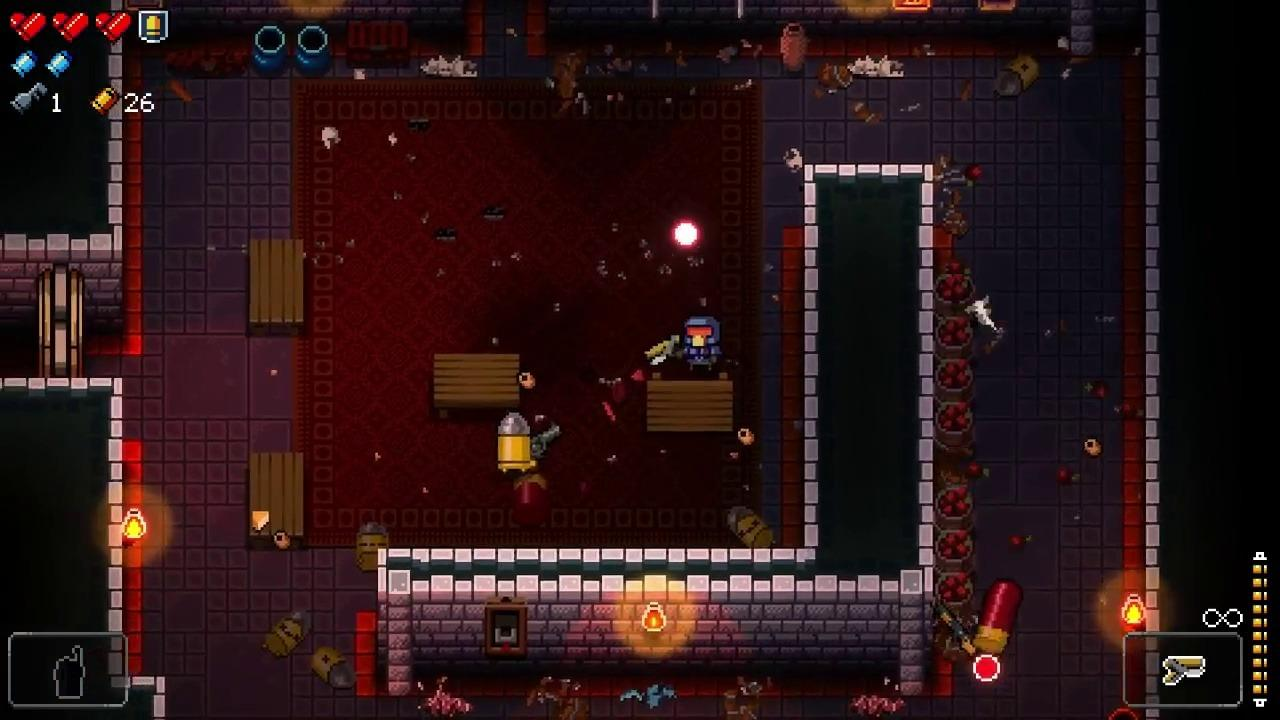bullet: (670, 220, 703, 252)
bullet_kin: (495, 411, 535, 473)
dead_bullet_kin: (261, 608, 313, 656), (726, 504, 776, 549), (994, 53, 1040, 97), (313, 647, 357, 688), (356, 523, 390, 570)
dead_red_shotgun_kin: (513, 475, 551, 526)
locked_door: (37, 264, 83, 379)
player: (683, 315, 722, 373)
red_shotgun_kin: (971, 577, 1025, 655)
table: (432, 355, 520, 420), (249, 451, 303, 550), (647, 371, 733, 432), (249, 239, 303, 335)
